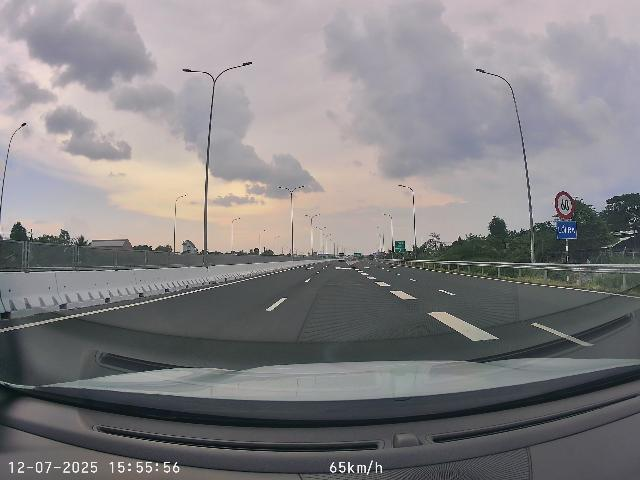127-toc-do-toi-da-60: (554, 191, 574, 219)
